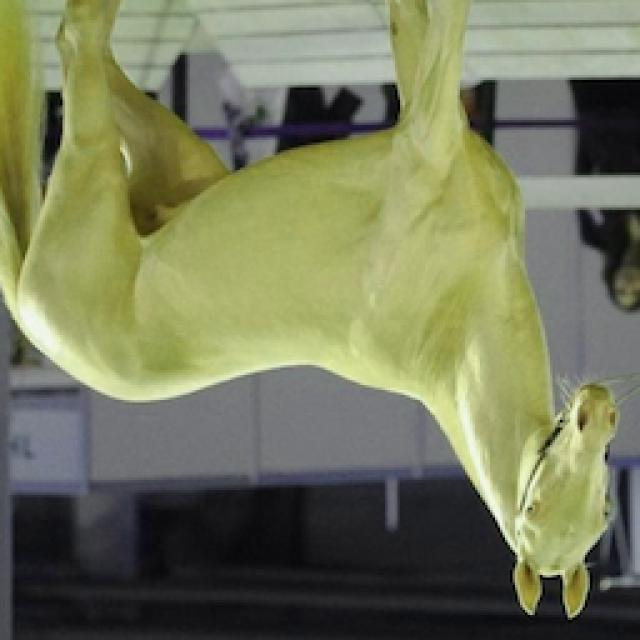Horse: (0, 2, 630, 622)
